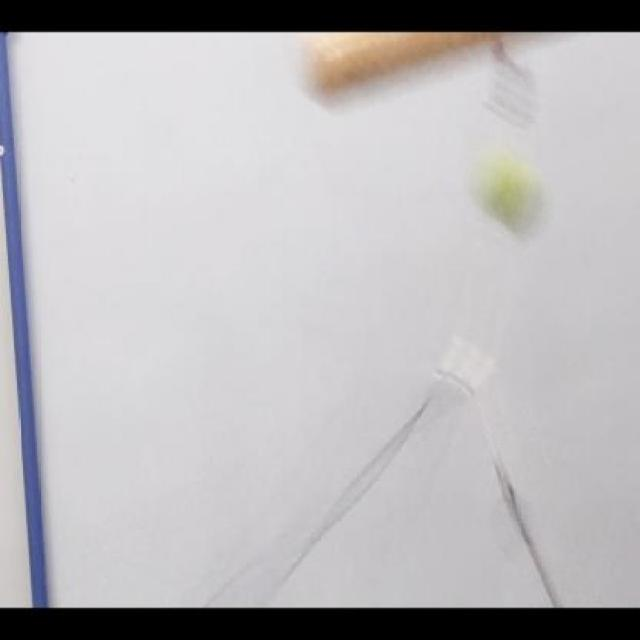baseball: (479, 159, 544, 230)
